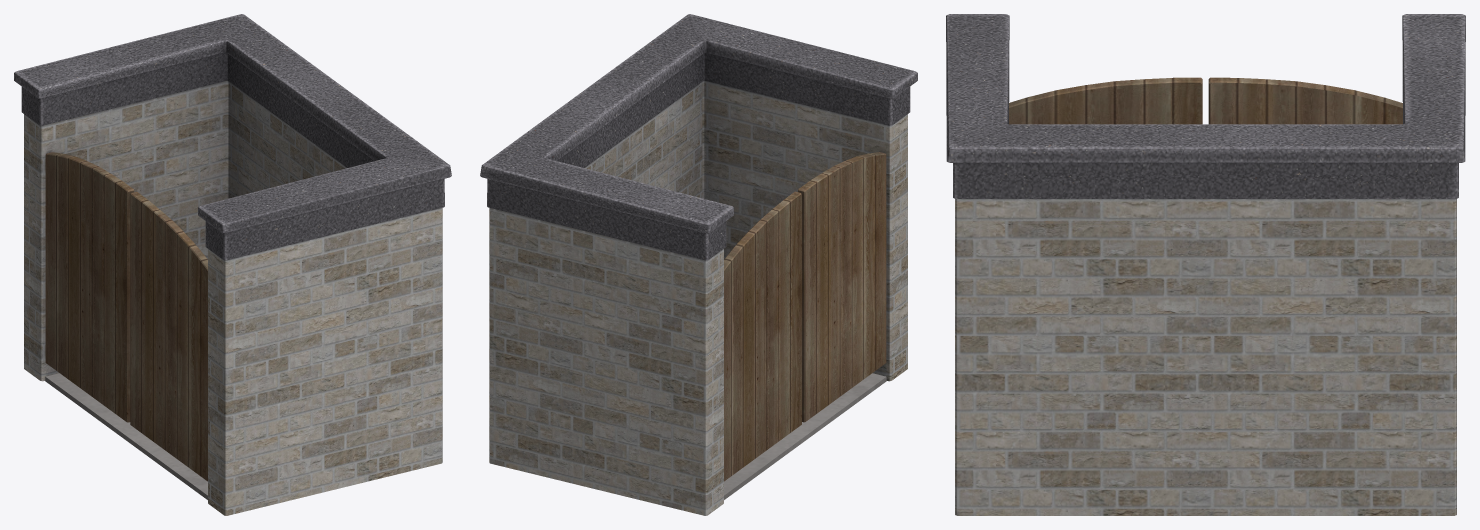
Rendered from MAP_OBJ_GateCeling_01.fbx.
3 renders of one model, left to right at view 1: azimuth 30°, elevation 25°; view 2: azimuth 150°, elevation 25°; view 3: azimuth 270°, elevation 25°, orthographic. The views are drawn at different scales.
Visible parts, largest first — view 1: Map_Obj_GateCol_05; view 2: Map_Obj_GateCol_05; view 3: Map_Obj_GateCol_05.
Part boxes in pixels (x1=…): Map_Obj_GateCol_05: x1=14, y1=14, x2=451, y2=515; Map_Obj_GateCol_05: x1=480, y1=14, x2=917, y2=515; Map_Obj_GateCol_05: x1=946, y1=14, x2=1465, y2=515.
Size of the model in its own units: 106 by 131 by 166.
